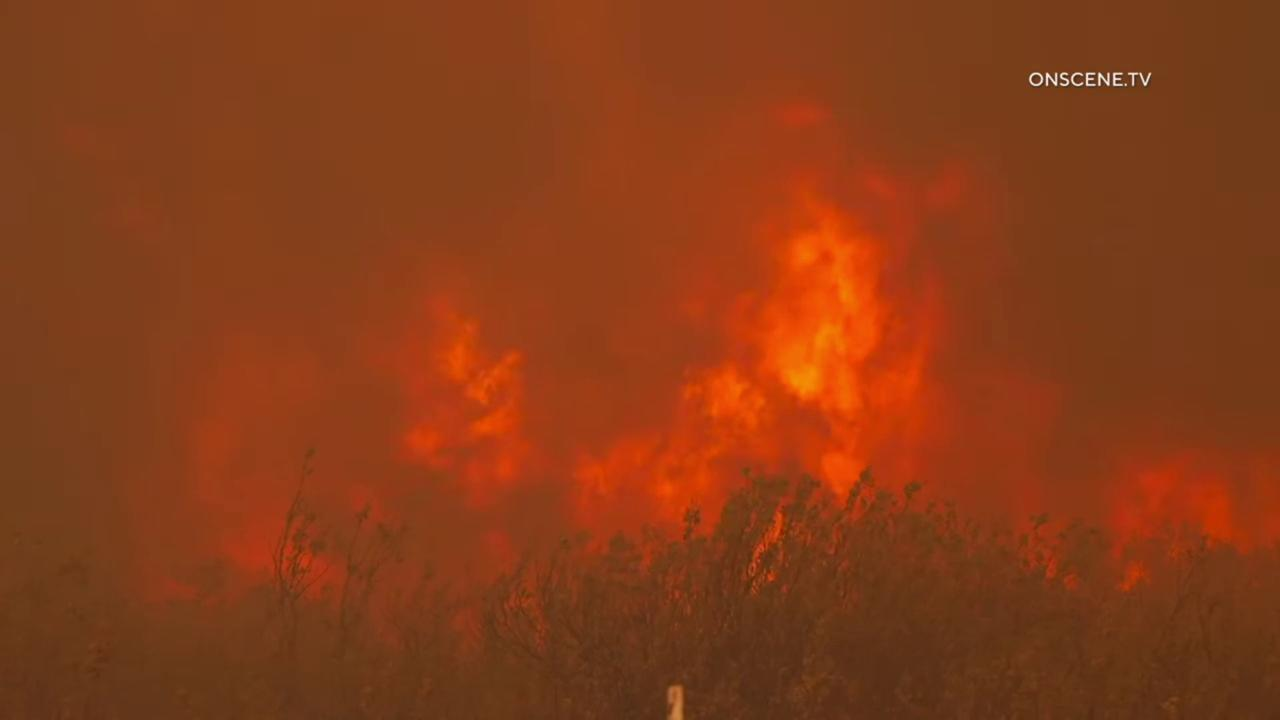fire: (568, 103, 980, 616), (398, 279, 559, 541), (1108, 429, 1280, 601), (998, 477, 1084, 597)
smoke: (0, 0, 1280, 720)
